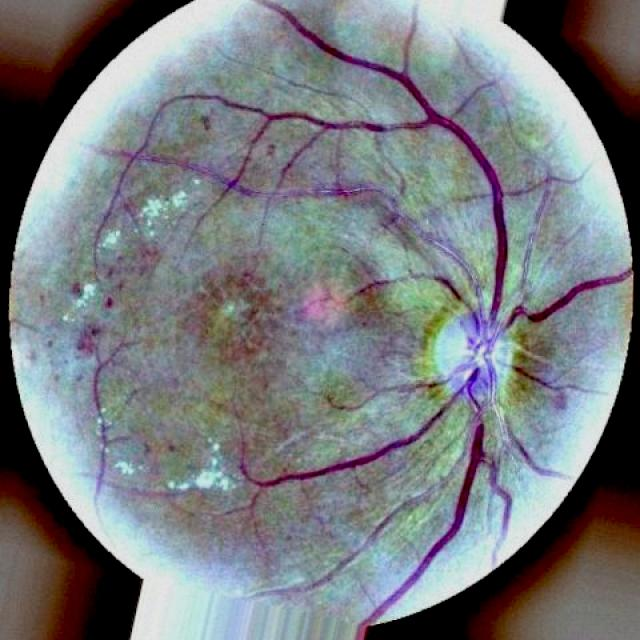Macula: (296, 262, 357, 334)
Nerves: (290, 409, 447, 491), (450, 119, 516, 293), (536, 272, 622, 326)
Optic Disk: (413, 412, 488, 578), (415, 293, 523, 405)
